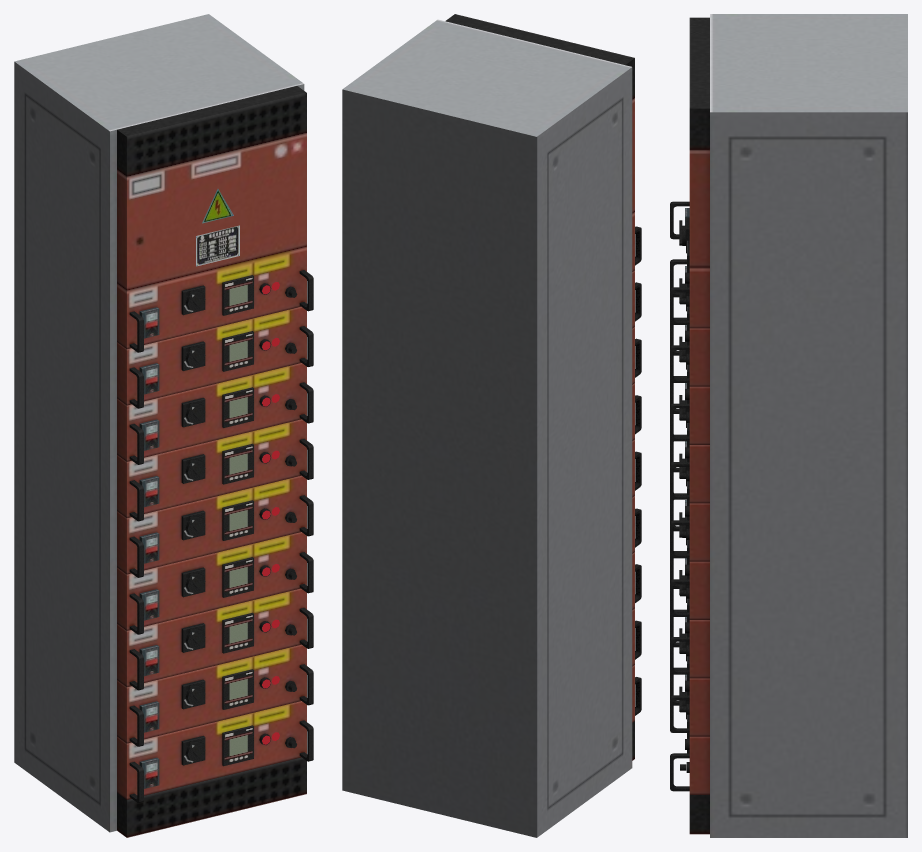
File: LVC.glb
3 views of the same model, side by side, from view 1: azimuth 30°, elevation 25°; view 2: azimuth 150°, elevation 25°; view 3: azimuth 270°, elevation 25° (orthographic). The views are drawn at different scales.
Parts seen in each view (by area): view 1: polySurface224; view 2: polySurface224; view 3: polySurface224.
Boxes of the visible parts, x1,y1,x2,y2 form: polySurface224: (14, 14, 313, 837); polySurface224: (342, 14, 641, 837); polySurface224: (670, 14, 907, 837).
Size of the model in its own units: 6.39 by 22 by 6.54.
Materials: 1 (1 with a texture image).
